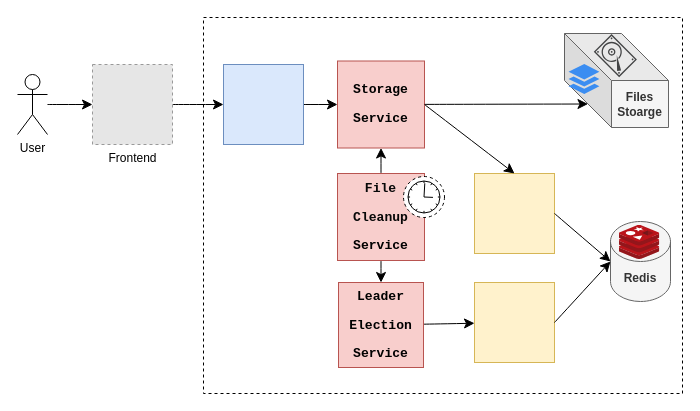
Some shapes in this 700 by 411 pixel diagram are drawn without their labels. Grey dashed boxes stand in for pictures. The centre of each missing label's shape, as x and y in pixels:
"File Controller" goes at point (263, 104).
"File Metadata Repository" goes at point (514, 213).
"Leader Repository" goes at point (514, 322).
